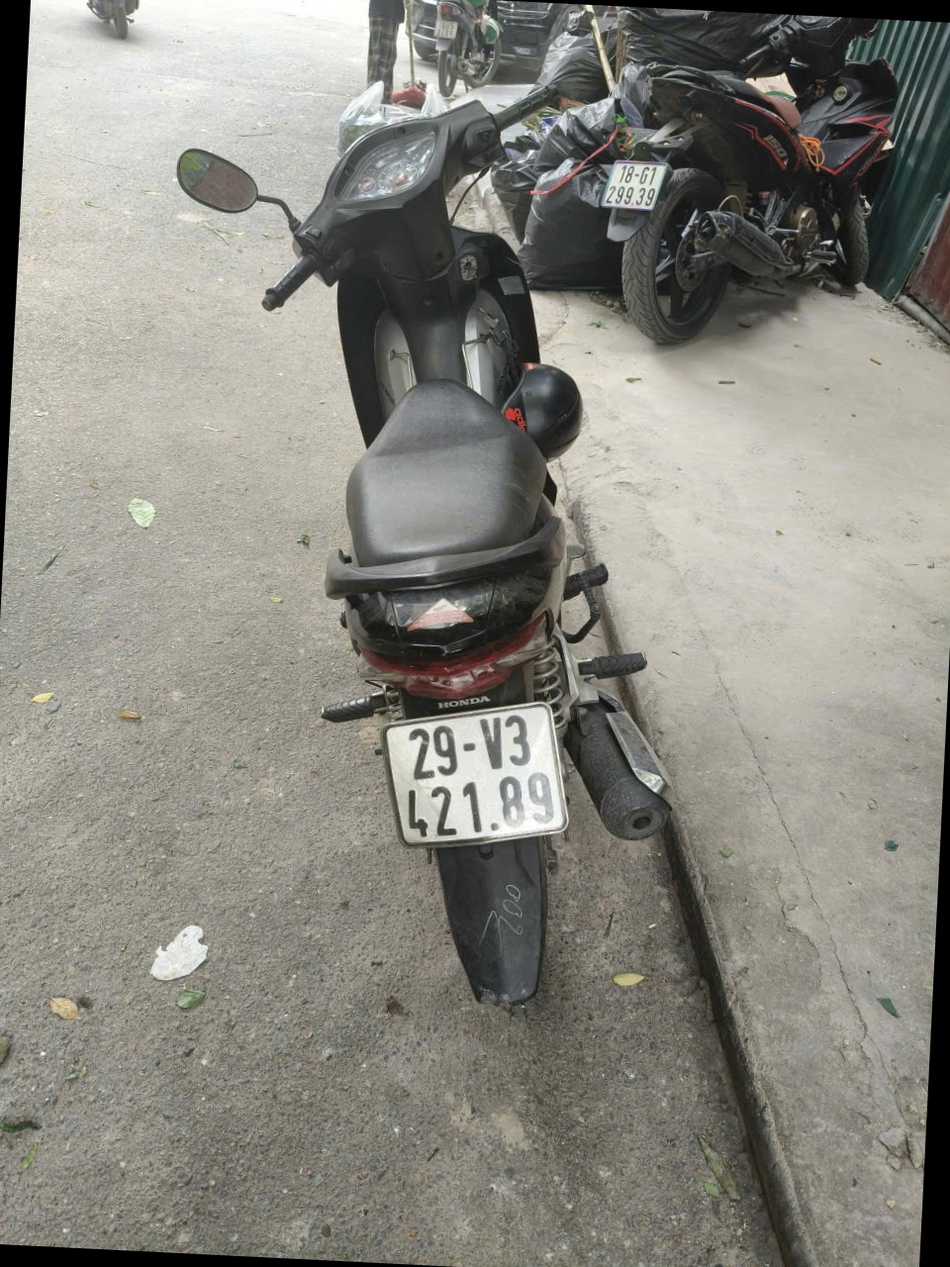plate: (194, 624, 256, 647)
